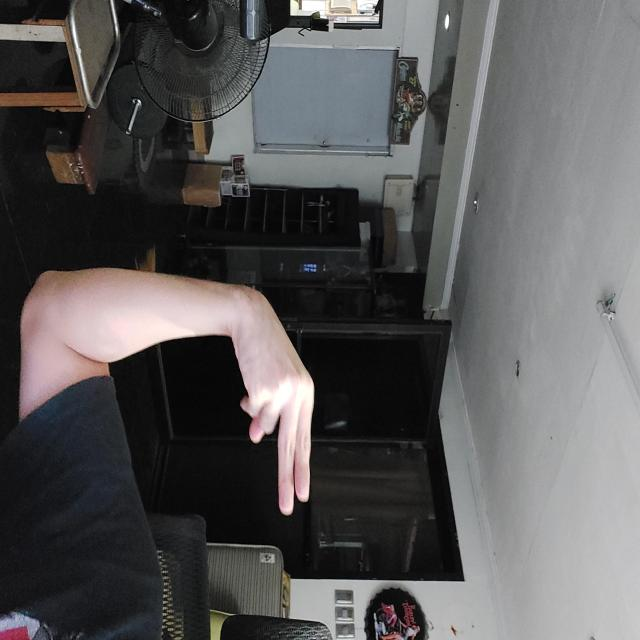H: (285, 324, 517, 410)
